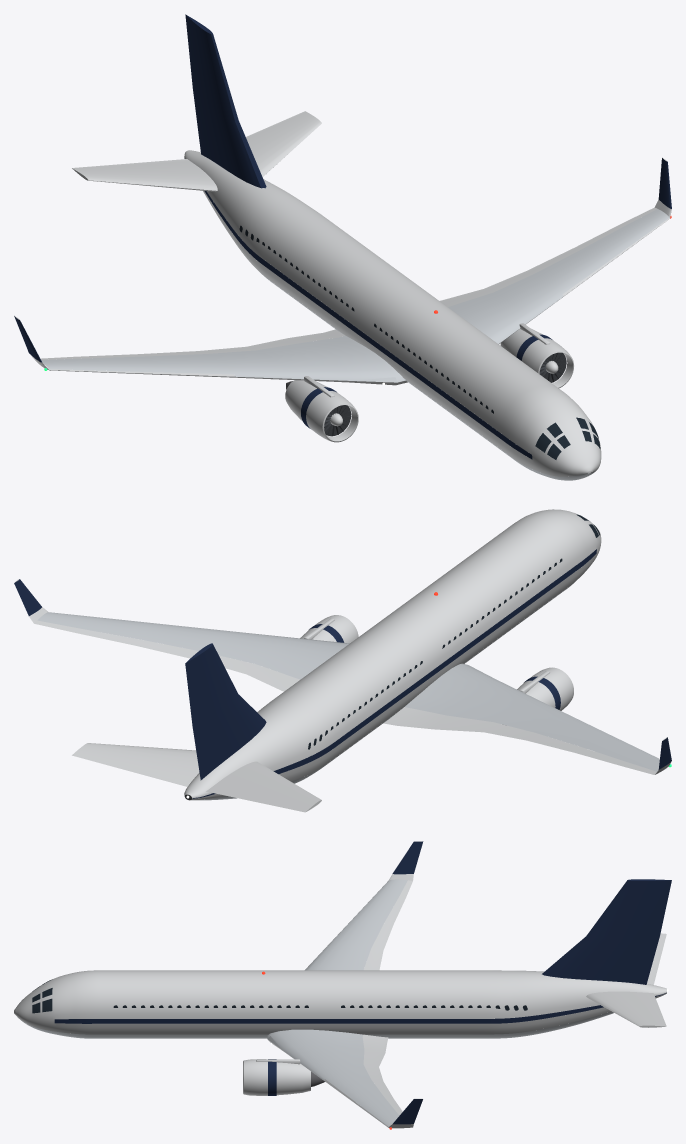
The model's file is airliner.glb.
The picture shows the model from 3 angles, top to bottom: view 1: azimuth 30°, elevation 25°; view 2: azimuth 150°, elevation 25°; view 3: azimuth 270°, elevation 25°; orthographic projection. The views are drawn at different scales.
Parts seen in each view (by area): view 1: Airliner; view 2: Airliner; view 3: Airliner.
Part boxes in pixels (<box>): Airliner: <box>14,14,671,480</box>; Airliner: <box>14,509,671,812</box>; Airliner: <box>14,841,671,1129</box>.
Size of the model in its own units: 35.56 by 11.02 by 38.35.
